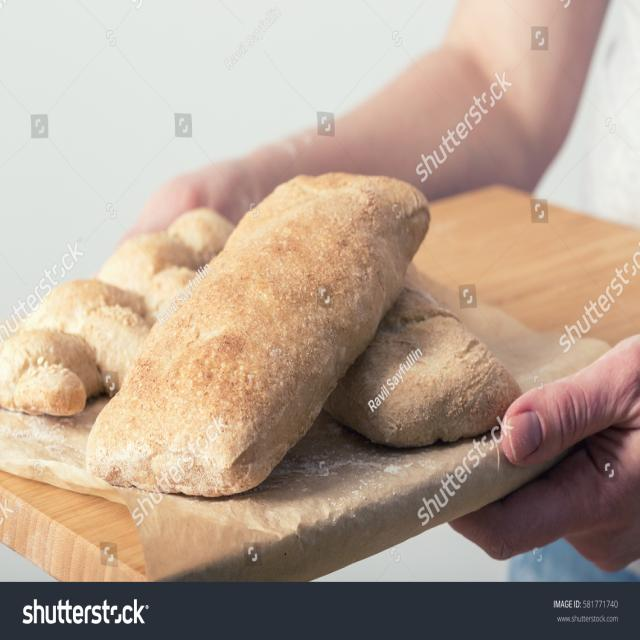Ciabatta: (87, 173, 430, 496)
